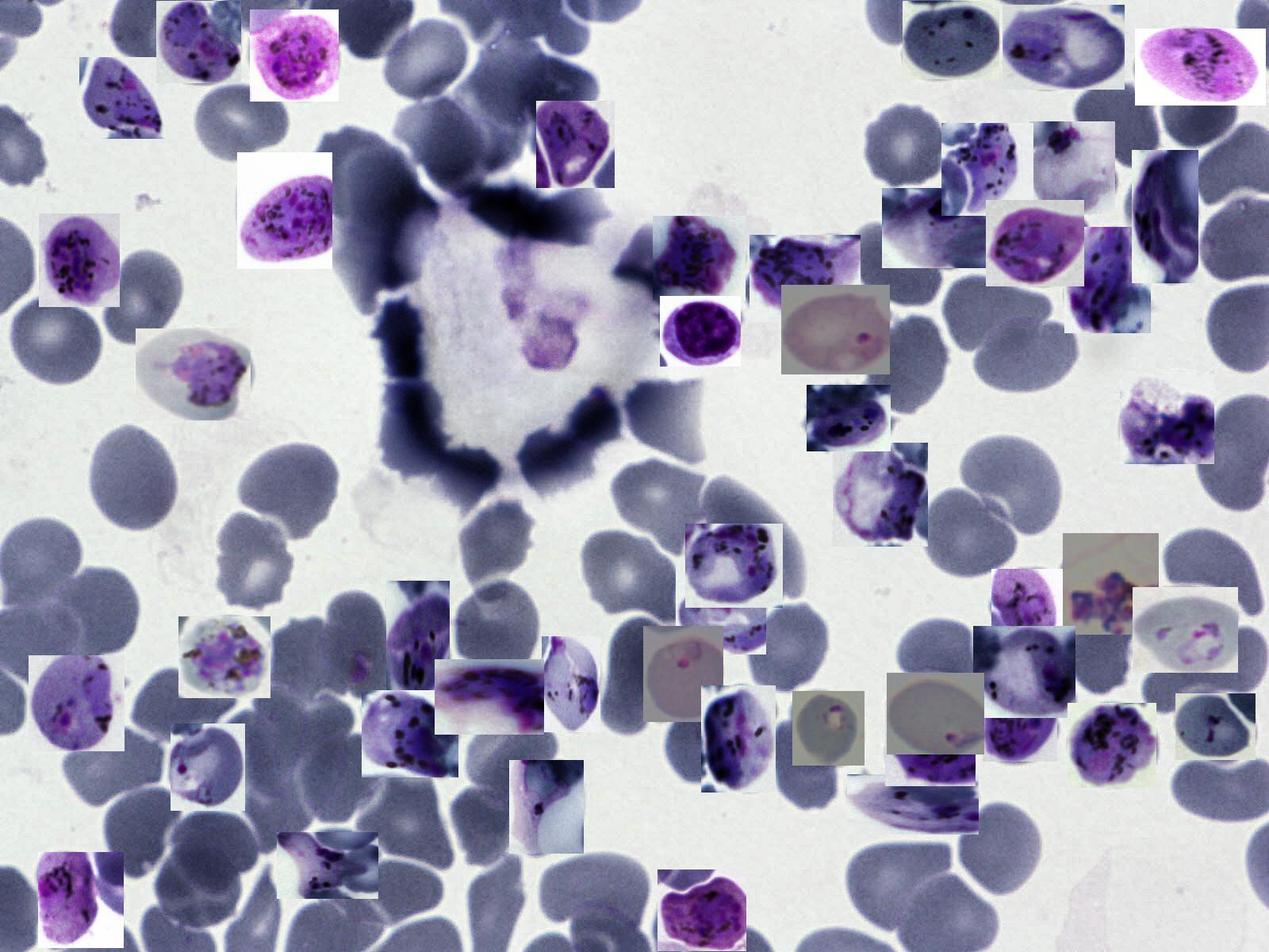Infected: (237, 152, 332, 269), (136, 328, 251, 420), (1003, 5, 1125, 90), (1135, 29, 1266, 106), (833, 443, 928, 547), (1063, 533, 1159, 635), (781, 285, 890, 374), (750, 235, 861, 322), (973, 626, 1075, 718), (1064, 227, 1151, 333), (29, 655, 125, 751), (1133, 587, 1238, 673), (1132, 150, 1198, 283), (1120, 371, 1214, 464), (882, 188, 991, 268), (941, 123, 1033, 216), (676, 559, 766, 654), (986, 200, 1084, 286), (362, 691, 458, 778), (435, 659, 544, 735), (38, 852, 124, 948), (685, 524, 783, 608), (250, 10, 339, 102), (701, 685, 776, 793), (847, 774, 979, 835), (1029, 121, 1115, 214), (653, 216, 746, 301), (887, 673, 984, 754), (643, 626, 723, 722), (386, 581, 450, 700), (39, 213, 120, 307), (178, 616, 270, 698), (903, 1, 999, 79), (1068, 704, 1156, 789), (885, 705, 976, 786), (79, 57, 168, 139), (658, 869, 746, 951), (509, 760, 584, 854), (156, 1, 241, 83), (536, 101, 615, 188), (278, 832, 379, 899), (991, 569, 1068, 654), (171, 724, 245, 811), (983, 681, 1057, 762), (660, 296, 741, 367), (542, 636, 600, 732), (807, 385, 891, 451), (792, 691, 865, 766), (1175, 693, 1256, 760)
Uninfected: (700, 475, 808, 600), (1138, 626, 1266, 715), (842, 839, 950, 940), (361, 762, 455, 872), (579, 530, 687, 623), (921, 485, 1024, 582), (5, 294, 108, 390), (964, 432, 1064, 528), (866, 309, 954, 416), (241, 444, 340, 538), (603, 618, 682, 735), (612, 460, 709, 555), (314, 125, 409, 221), (90, 426, 176, 532), (850, 221, 948, 314), (52, 566, 144, 663), (454, 580, 542, 680), (1071, 78, 1161, 175), (102, 248, 186, 351), (743, 600, 832, 697), (945, 275, 1052, 355), (1165, 529, 1262, 615), (325, 588, 398, 701), (102, 781, 181, 885), (67, 725, 171, 804), (462, 716, 555, 804), (861, 102, 952, 191), (214, 512, 297, 609), (509, 49, 600, 136), (131, 666, 238, 739), (270, 616, 351, 712), (397, 100, 486, 187), (301, 733, 385, 825), (976, 317, 1079, 392), (1062, 598, 1139, 698), (540, 854, 650, 923), (173, 804, 258, 892), (959, 803, 1041, 894), (620, 381, 711, 463), (158, 838, 240, 927), (197, 85, 288, 161), (460, 495, 542, 579), (898, 619, 987, 694), (1164, 73, 1244, 154), (336, 862, 444, 922), (665, 700, 743, 783), (771, 716, 838, 811), (385, 20, 466, 98), (453, 785, 521, 867)
